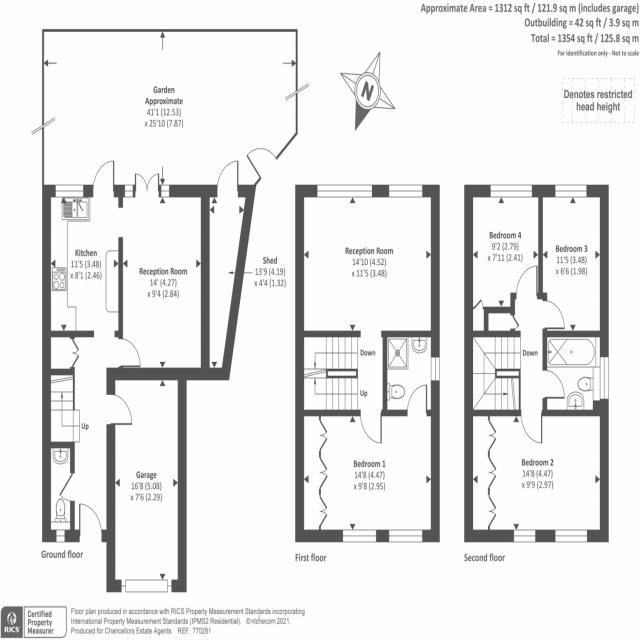DOOR: (78, 501, 103, 542), (115, 336, 142, 369), (92, 160, 115, 198), (359, 409, 383, 445), (515, 264, 539, 299), (520, 409, 543, 445), (406, 381, 428, 416), (542, 368, 565, 401), (542, 300, 565, 330), (58, 472, 75, 502)
DOUBLE DOOR: (133, 170, 162, 197)
ROOM: (42, 159, 210, 381), (295, 384, 440, 543), (464, 410, 609, 543), (464, 184, 543, 337), (538, 184, 609, 337)
WINDOW: (316, 184, 373, 198), (489, 183, 533, 199), (388, 529, 424, 543), (342, 529, 377, 543), (388, 184, 423, 198), (554, 529, 588, 543), (599, 355, 609, 401), (555, 184, 587, 198), (55, 184, 84, 198), (513, 529, 536, 543), (431, 356, 440, 382), (56, 529, 65, 543)
